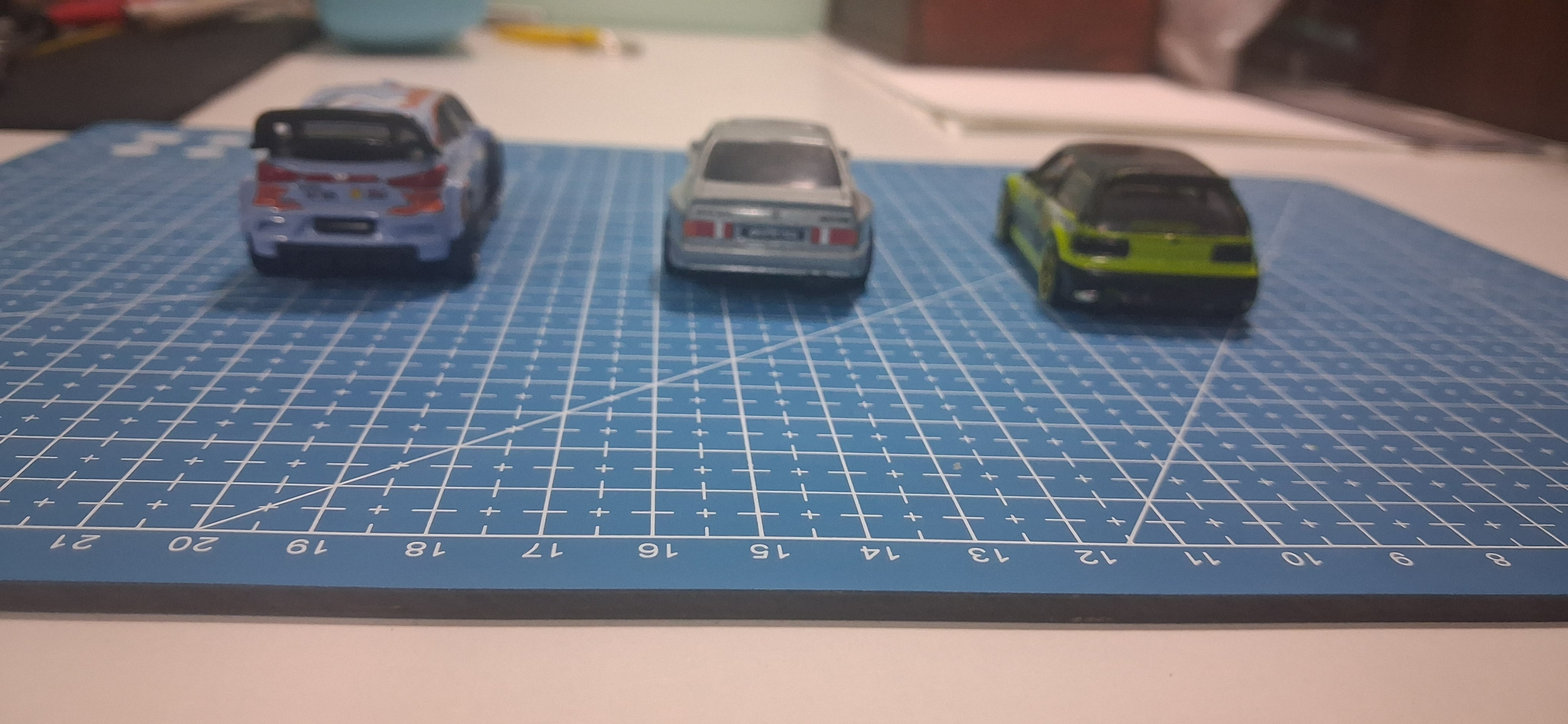Honda_Civic: (978, 119, 1286, 365)
Hyundai_I20_WRC: (195, 61, 534, 314)
Mercedes_Benz_560_SEC_AMG: (639, 94, 903, 321)
